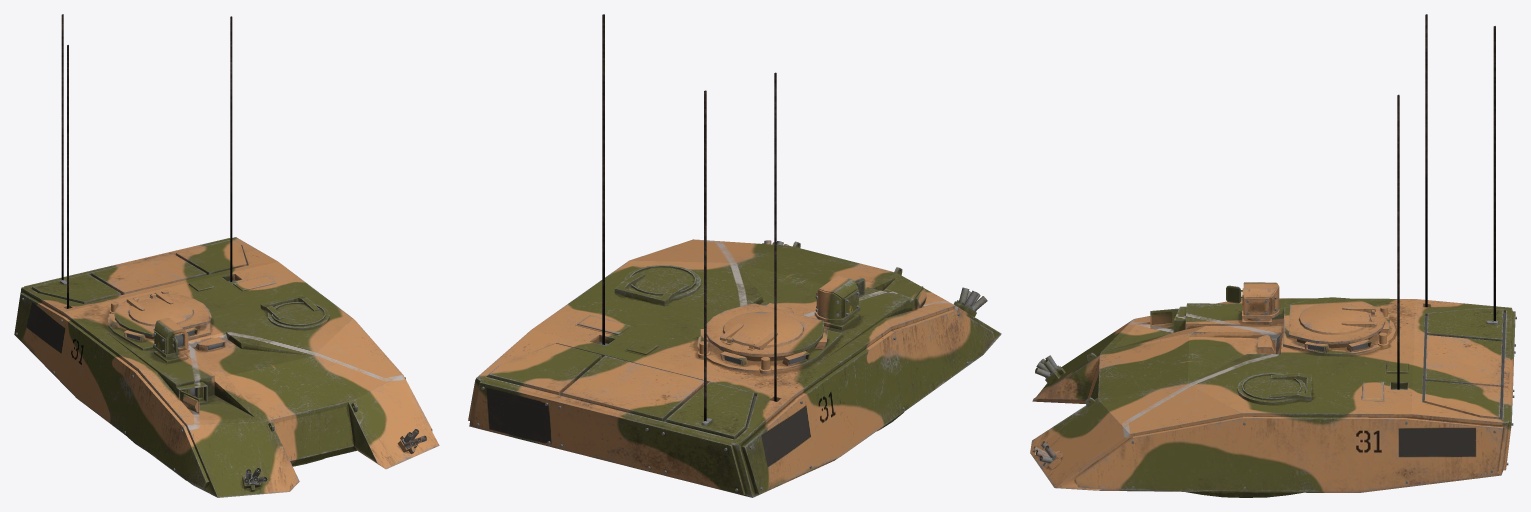
The model's file is tank_turret.glb.
3 renders of one model, left to right at view 1: azimuth 30°, elevation 25°; view 2: azimuth 150°, elevation 25°; view 3: azimuth 270°, elevation 25°, orthographic. The views are drawn at different scales.
Parts seen in each view (by area): view 1: turret_turrret_0; view 2: turret_turrret_0; view 3: turret_turrret_0.
Part boxes in pixels (x1,y1,x2,y2): turret_turrret_0: (14,14,439,497); turret_turrret_0: (468,14,1001,497); turret_turrret_0: (1030,14,1516,497).
Size of the model in its own units: 3.3 by 4.43 by 5.2.
Materials: 1 (1 with a texture image).
